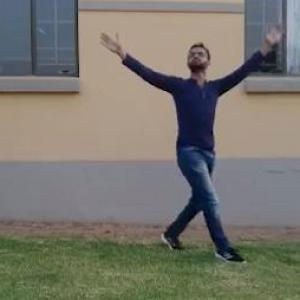takeoff: (106, 31, 286, 262)
